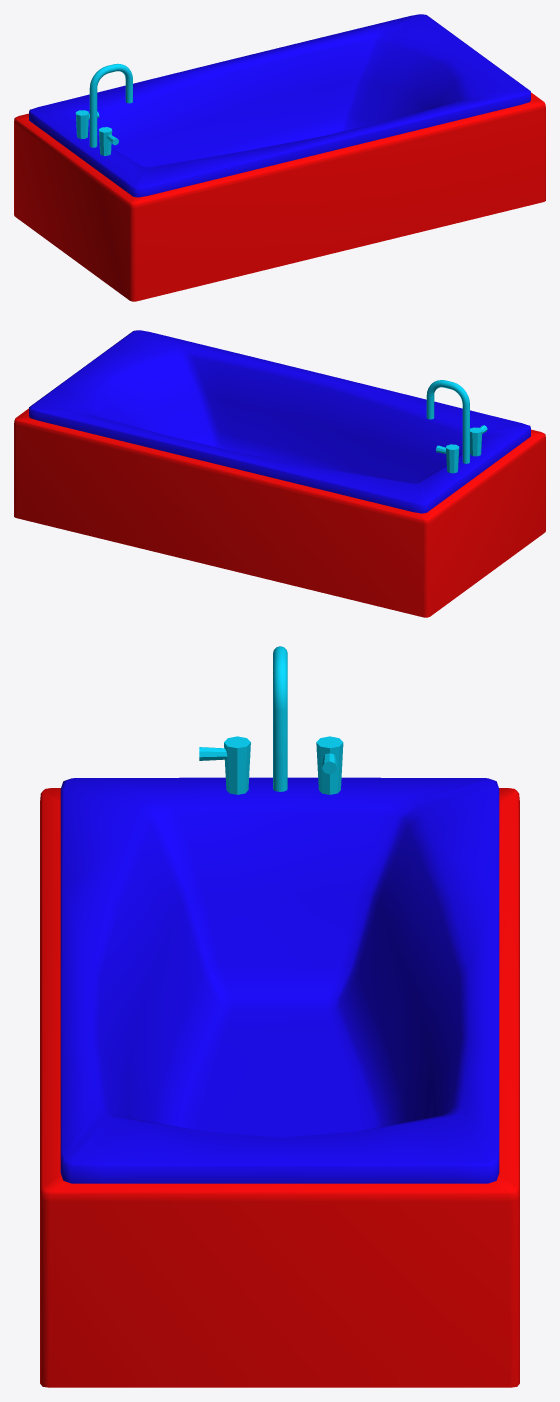
The model's file is Bañera.FBX.
The picture shows the model from 3 angles, top to bottom: view 1: azimuth 30°, elevation 25°; view 2: azimuth 150°, elevation 25°; view 3: azimuth 270°, elevation 25°; orthographic projection. The views are drawn at different scales.
Parts seen in each view (by area): view 1: Bath; view 2: Bath; view 3: Bath.
Boxes of the visible parts, bbox=[...] form: Bath: bbox=[14, 14, 545, 301]; Bath: bbox=[14, 330, 545, 617]; Bath: bbox=[40, 646, 519, 1387].
Size of the model in its own units: 4 by 1.69 by 2.
